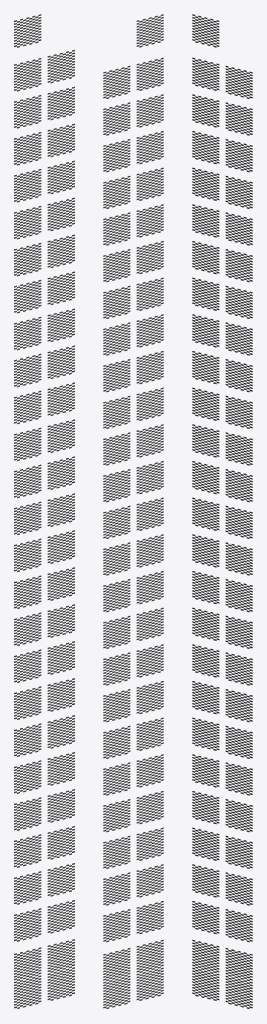
File: MSH_Plano_cuadritos.fbx
The picture shows the model from 3 angles, left to right: view 1: azimuth 30°, elevation 25°; view 2: azimuth 210°, elevation 25°; view 3: azimuth 330°, elevation 25°; orthographic projection.
Visible parts, largest first — view 1: MSH_Plano_cuadritos.004, MSH_Plano_cuadritos.003, MSH_Plano_cuadritos.002, MSH_Plano_cuadritos.001; view 2: MSH_Plano_cuadritos.004, MSH_Plano_cuadritos.003, MSH_Plano_cuadritos.002, MSH_Plano_cuadritos.001; view 3: MSH_Plano_cuadritos.004, MSH_Plano_cuadritos.003, MSH_Plano_cuadritos.002, MSH_Plano_cuadritos.001.
Boxes of the visible parts, x1,y1,x2,y2 form: MSH_Plano_cuadritos.004: (14, 641, 74, 1008); MSH_Plano_cuadritos.003: (14, 308, 74, 645); MSH_Plano_cuadritos.002: (14, 49, 74, 313); MSH_Plano_cuadritos.001: (14, 14, 41, 47); MSH_Plano_cuadritos.004: (103, 644, 163, 1008); MSH_Plano_cuadritos.003: (103, 314, 163, 648); MSH_Plano_cuadritos.002: (103, 57, 163, 318); MSH_Plano_cuadritos.001: (136, 14, 163, 47); MSH_Plano_cuadritos.004: (192, 644, 252, 1008); MSH_Plano_cuadritos.003: (192, 314, 252, 648); MSH_Plano_cuadritos.002: (192, 57, 252, 318); MSH_Plano_cuadritos.001: (192, 14, 219, 47).
Size of the model in its own units: 569 by 8828 by 4.58e-05.
